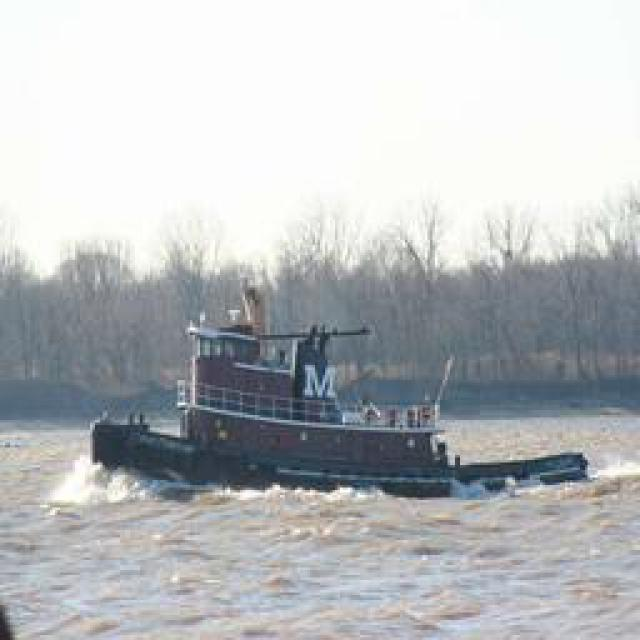Ship: (96, 314, 564, 494)
